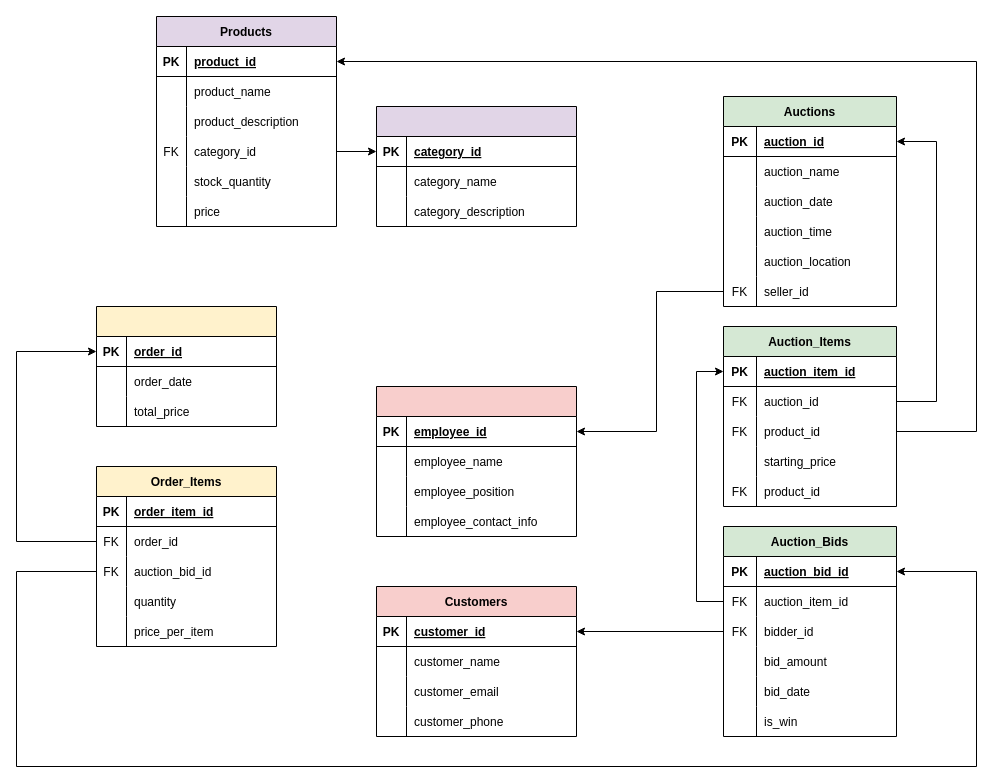
Some shapes in this 993 by 783 pixel diagram are drawn without their labels. The shapes that lost their labels are listed below. From the top down, each one's box as (x1, y1, x2, y2) in pixels, then its label:
(376, 106, 576, 226): Categories
(96, 306, 276, 426): Orders
(376, 386, 576, 536): Employees
